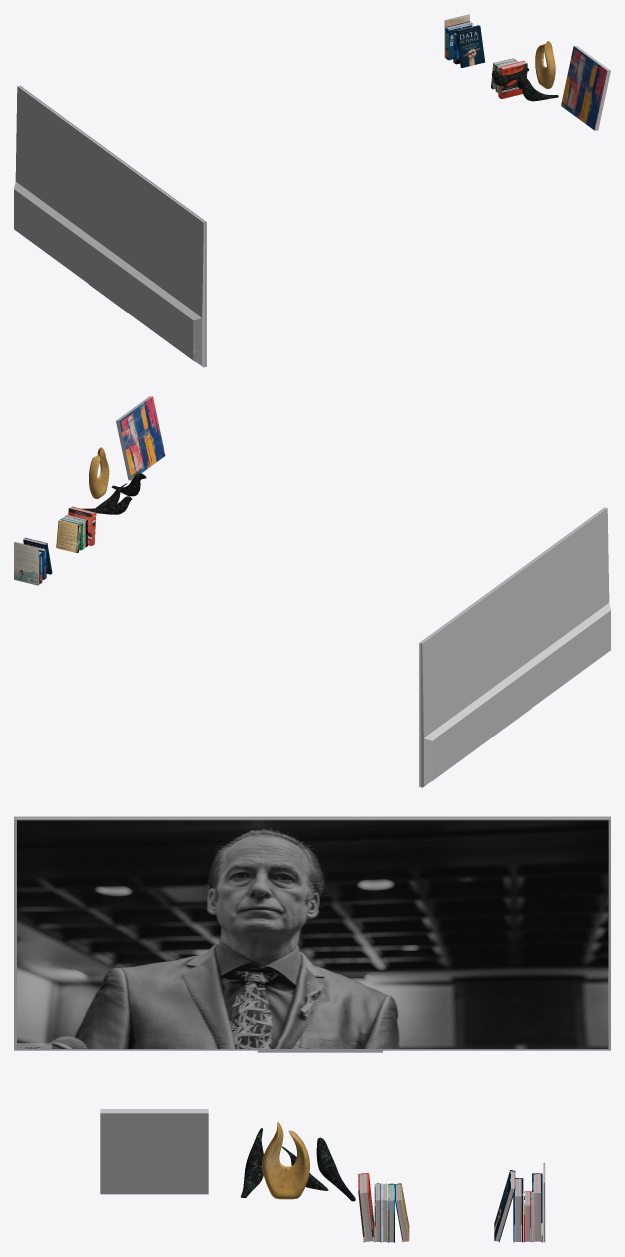
Rendered from decoracion.obj.
3 views of the same model, one above another, from view 1: azimuth 30°, elevation 25°; view 2: azimuth 150°, elevation 25°; view 3: azimuth 270°, elevation 25° (orthographic). The views are drawn at different scales.
Parts seen in each view (by area): view 1: tv, decorative_set_Vol00109, Decorative_set_2_053.015, decorative_set_vol005_hamid_shk25, Decorative_set_2_053.016; view 2: tv, decorative_set_Vol00109, Decorative_set_2_053.011, decorative_set_vol005_hamid_shk25, Decorative_set_2_053.020; view 3: tv, decorative_set_Vol00109, decorative_set_vol005_hamid_shk25, Ligne_Roset_Pajaros_Toucan_mat(2), Ligne_Roset_Pajaros_Quetzal_mat(2).
Boxes of the visible parts, x1,y1,x2,y2 form: tv: (14, 85, 206, 367); decorative_set_Vol00109: (561, 46, 610, 130); Decorative_set_2_053.015: (456, 25, 485, 67); decorative_set_vol005_hamid_shk25: (535, 41, 555, 88); Decorative_set_2_053.016: (498, 60, 527, 98); tv: (419, 507, 610, 787); decorative_set_Vol00109: (116, 396, 165, 480); Decorative_set_2_053.011: (14, 542, 38, 585); decorative_set_vol005_hamid_shk25: (89, 447, 109, 498); Decorative_set_2_053.020: (56, 519, 81, 552); tv: (14, 816, 610, 1052); decorative_set_Vol00109: (100, 1109, 208, 1194); decorative_set_vol005_hamid_shk25: (262, 1122, 309, 1199); Ligne_Roset_Pajaros_Toucan_mat(2): (241, 1128, 263, 1197); Ligne_Roset_Pajaros_Quetzal_mat(2): (316, 1137, 355, 1201).
Size of the model in its own units: 2.65 by 0.9941 by 1.94.
